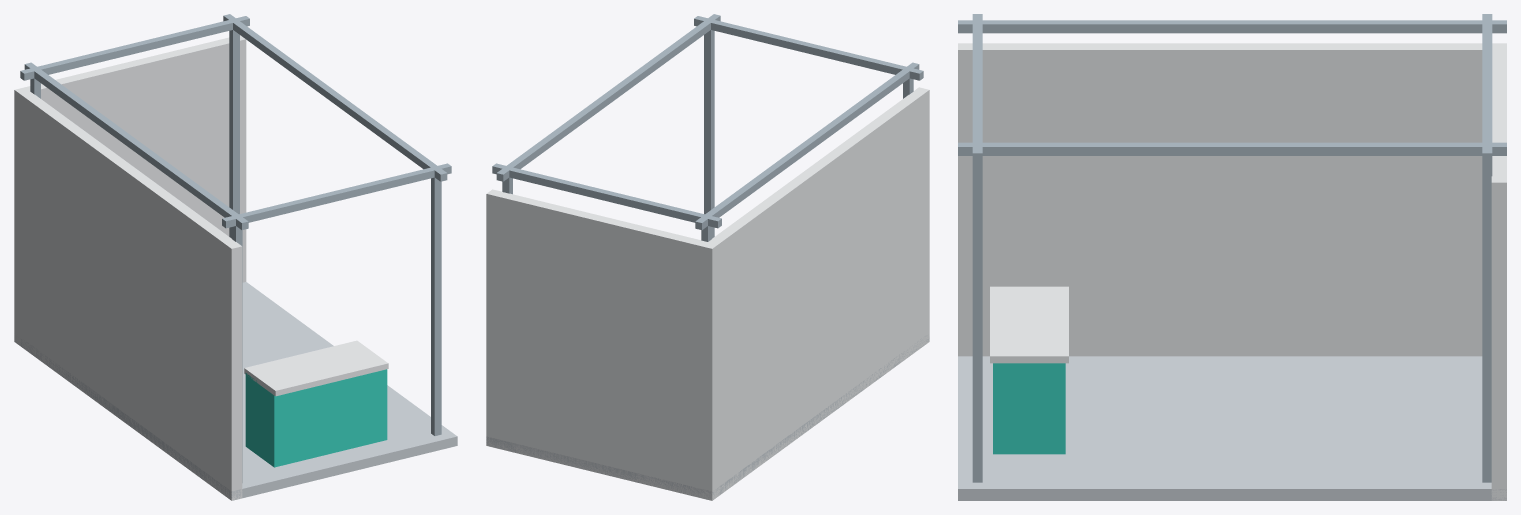
3 renders of one model, left to right at view 1: azimuth 30°, elevation 25°; view 2: azimuth 150°, elevation 25°; view 3: azimuth 270°, elevation 25°, orthographic. The views are drawn at different scales.
Parts seen in each view (by area): view 1: Exhibition Booth Concept; view 2: Exhibition Booth Concept; view 3: Exhibition Booth Concept.
Part boxes in pixels (x1,y1,x2,y2): Exhibition Booth Concept: [14, 14, 457, 500]; Exhibition Booth Concept: [486, 14, 929, 500]; Exhibition Booth Concept: [958, 14, 1506, 500].
Bounding box in the file's own units: 3 × 3.49 × 5.
